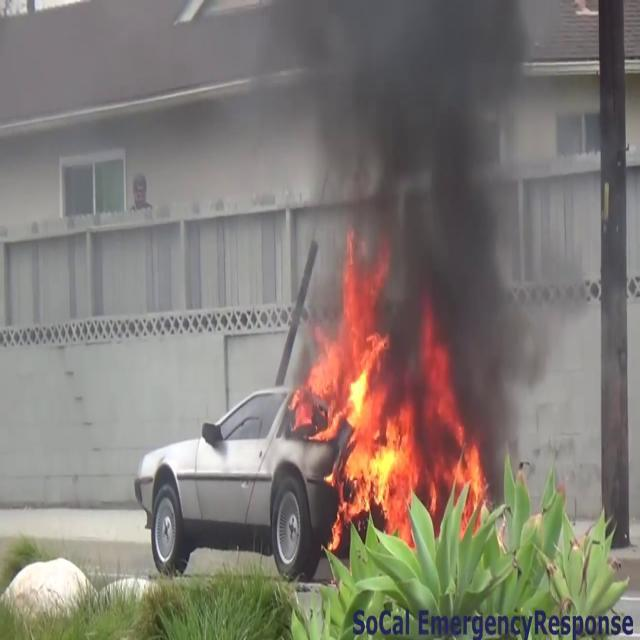Fire: (302, 284, 422, 538), (441, 398, 492, 526)
Smoke: (306, 1, 547, 404)
